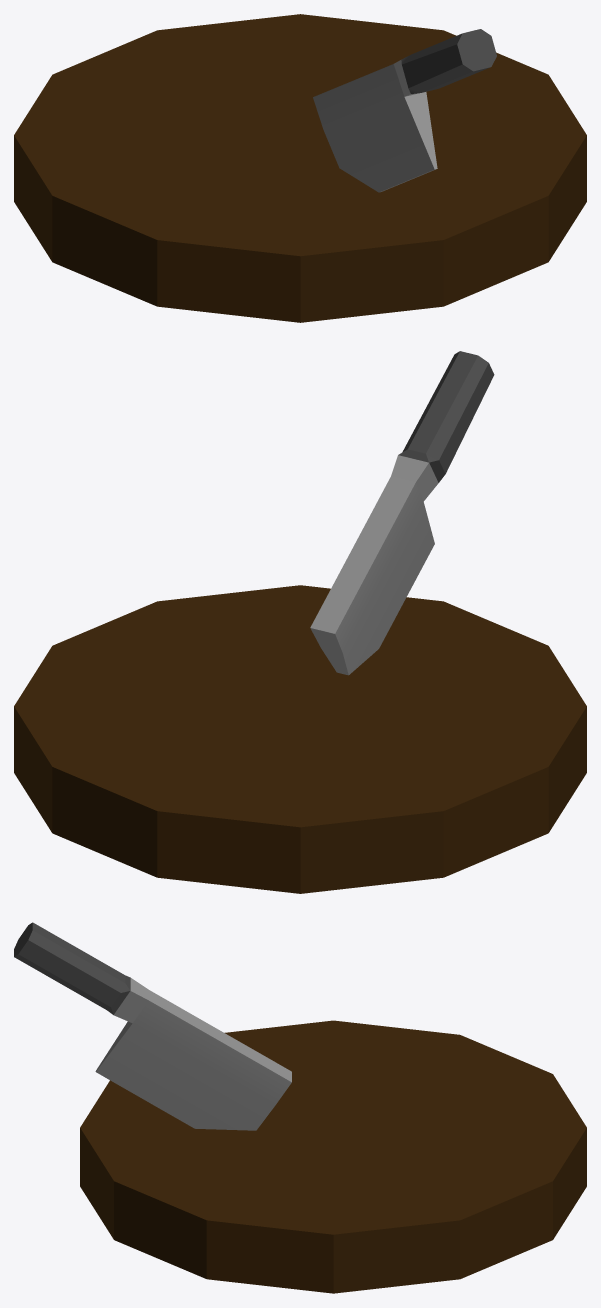
Rendered from knife&chopping_board.fbx.
The picture shows the model from 3 angles, top to bottom: view 1: azimuth 30°, elevation 25°; view 2: azimuth 150°, elevation 25°; view 3: azimuth 270°, elevation 25°; orthographic projection. The views are drawn at different scales.
Parts seen in each view (by area): view 1: pCylinder1, pCube1; view 2: pCylinder1, pCube1; view 3: pCylinder1, pCube1.
Boxes of the visible parts, <box> form: pCylinder1: <box>14,14,586,322</box>; pCube1: <box>313,29,496,192</box>; pCylinder1: <box>14,585,586,893</box>; pCube1: <box>310,351,494,675</box>; pCylinder1: <box>80,1020,586,1293</box>; pCube1: <box>14,922,291,1130</box>.
Bounding box in the file's own units: 16.52 × 9.38 × 18.67.
